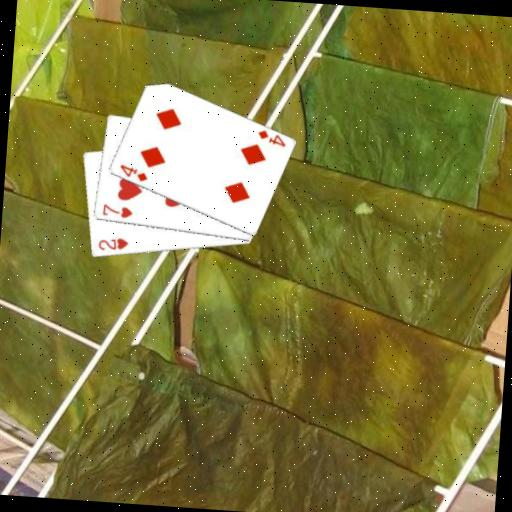2H: (95, 234, 130, 254)
4D: (116, 162, 150, 184), (254, 126, 288, 148)
7H: (100, 201, 135, 220)
